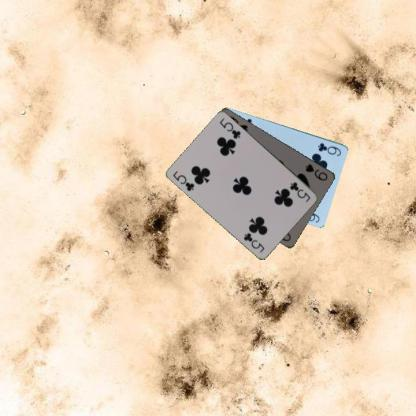5c: (170, 168, 196, 193), (288, 179, 312, 203)
6c: (315, 140, 342, 157)
9s: (303, 161, 329, 182)
